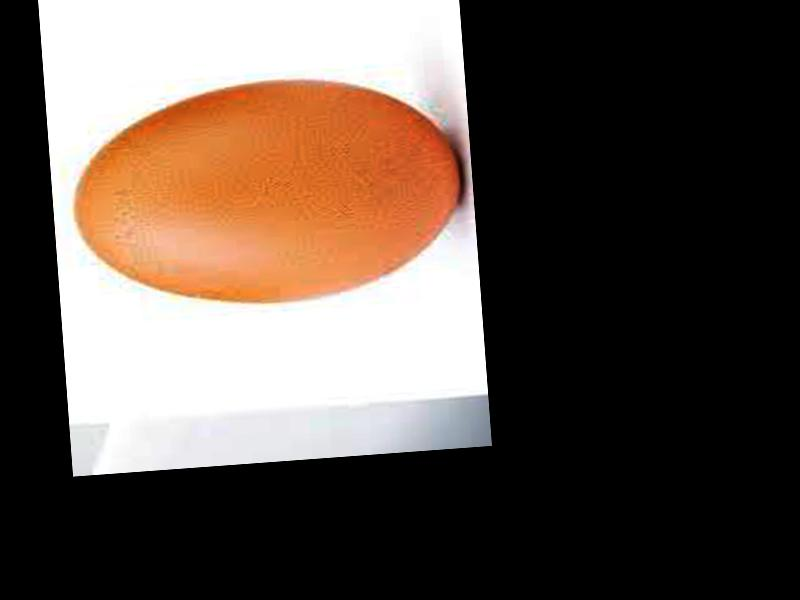Eggs: (68, 68, 468, 316)
